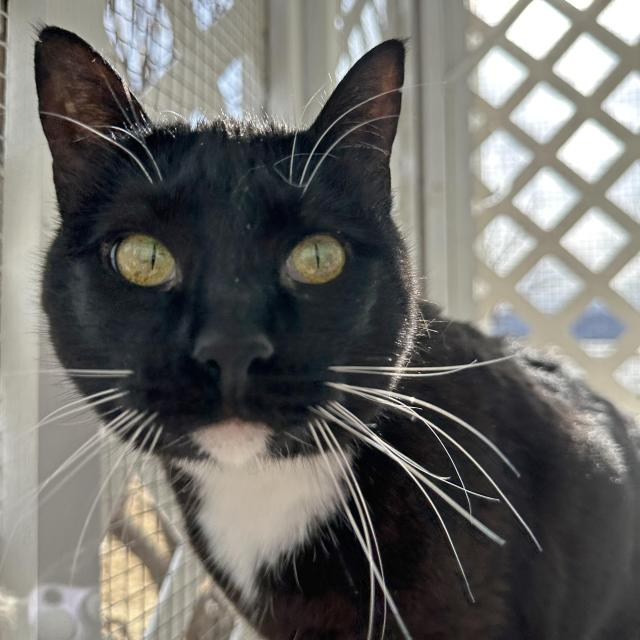manx_cat: (28, 15, 440, 495)
